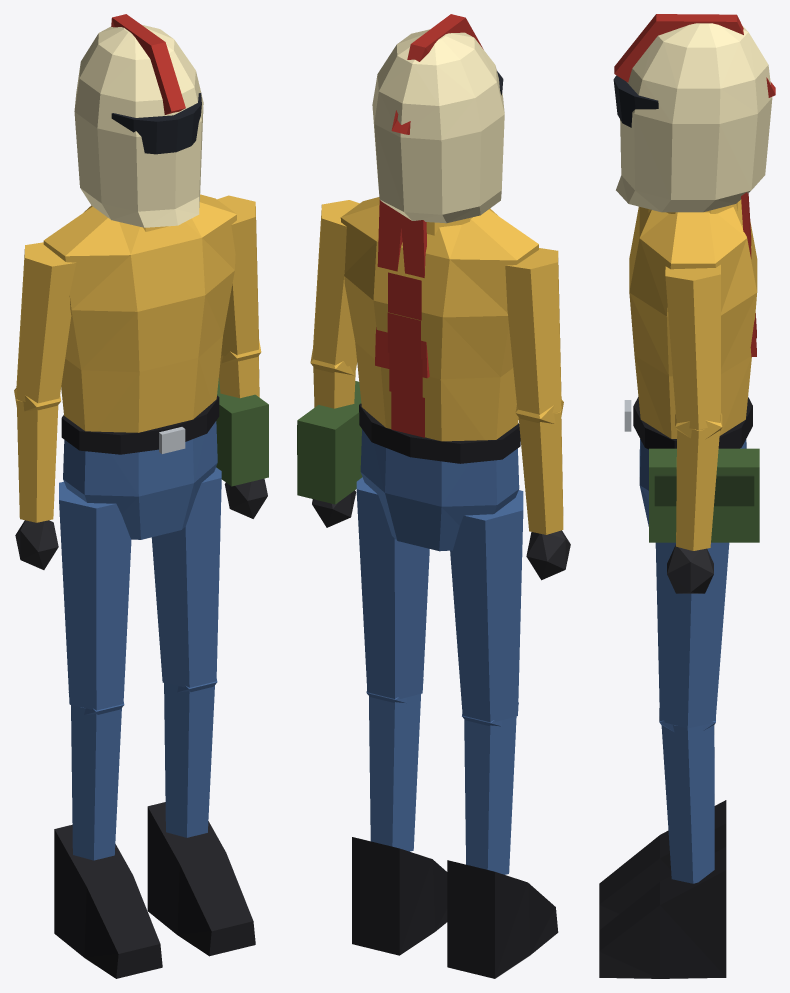
The model's file is player.glb.
3 renders of one model, left to right at view 1: azimuth 30°, elevation 25°; view 2: azimuth 150°, elevation 25°; view 3: azimuth 270°, elevation 25°, orthographic. The views are drawn at different scales.
Visible parts, largest first — view 1: chest_mesh, head_mesh, shin_r_mesh, shin_l_mesh, thigh_r_mesh, hips_mesh, thigh_l_mesh, upper_arm_r_mesh, forearm_r_mesh, upper_arm_l_mesh, prop_mesh, forearm_l_mesh (+2 smaller); view 2: chest_mesh, head_mesh, shin_r_mesh, shin_l_mesh, hips_mesh, thigh_r_mesh, thigh_l_mesh, upper_arm_r_mesh, forearm_r_mesh, prop_mesh, upper_arm_l_mesh, hair_mesh (+2 smaller); view 3: head_mesh, shin_l_mesh, chest_mesh, thigh_l_mesh, upper_arm_l_mesh, prop_mesh, forearm_l_mesh, shin_r_mesh, head_detail, hips_mesh, hair_mesh.
Boxes of the visible parts, x1,y1,x2,y2 form: chest_mesh: (43,194,236,432); head_mesh: (74,25,203,227); shin_r_mesh: (54,705,162,978); shin_l_mesh: (147,683,255,956); thigh_r_mesh: (59,481,131,714); hips_mesh: (61,395,219,539); thigh_l_mesh: (151,467,221,692); upper_arm_r_mesh: (14,242,76,411); forearm_r_mesh: (15,399,58,569); upper_arm_l_mesh: (217,195,261,363); prop_mesh: (216,378,268,486); forearm_l_mesh: (219,355,267,518); chest_mesh: (340,197,538,441); head_mesh: (372,29,504,223); shin_r_mesh: (447,716,558,978); shin_l_mesh: (352,694,447,955); hips_mesh: (359,403,520,551); thigh_r_mesh: (450,490,523,726); thigh_l_mesh: (356,477,429,702); upper_arm_r_mesh: (505,248,563,423); forearm_r_mesh: (518,411,570,580); prop_mesh: (297,381,362,504); upper_arm_l_mesh: (310,200,359,375); hair_mesh: (375,200,429,378); head_mesh: (613,23,772,212); shin_l_mesh: (599,725,726,978); chest_mesh: (629,199,757,438); thigh_l_mesh: (655,542,729,732); upper_arm_l_mesh: (665,264,722,439); prop_mesh: (649,448,759,542); forearm_l_mesh: (667,429,719,593); shin_r_mesh: (599,747,726,929); head_detail: (614,14,775,97); hips_mesh: (633,397,752,526); hair_mesh: (741,192,756,356).
Size of the model in its own units: 0.5217 by 1.84 by 0.3191.
